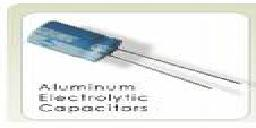Electrolytic-Capacitor: (26, 18, 242, 89)
